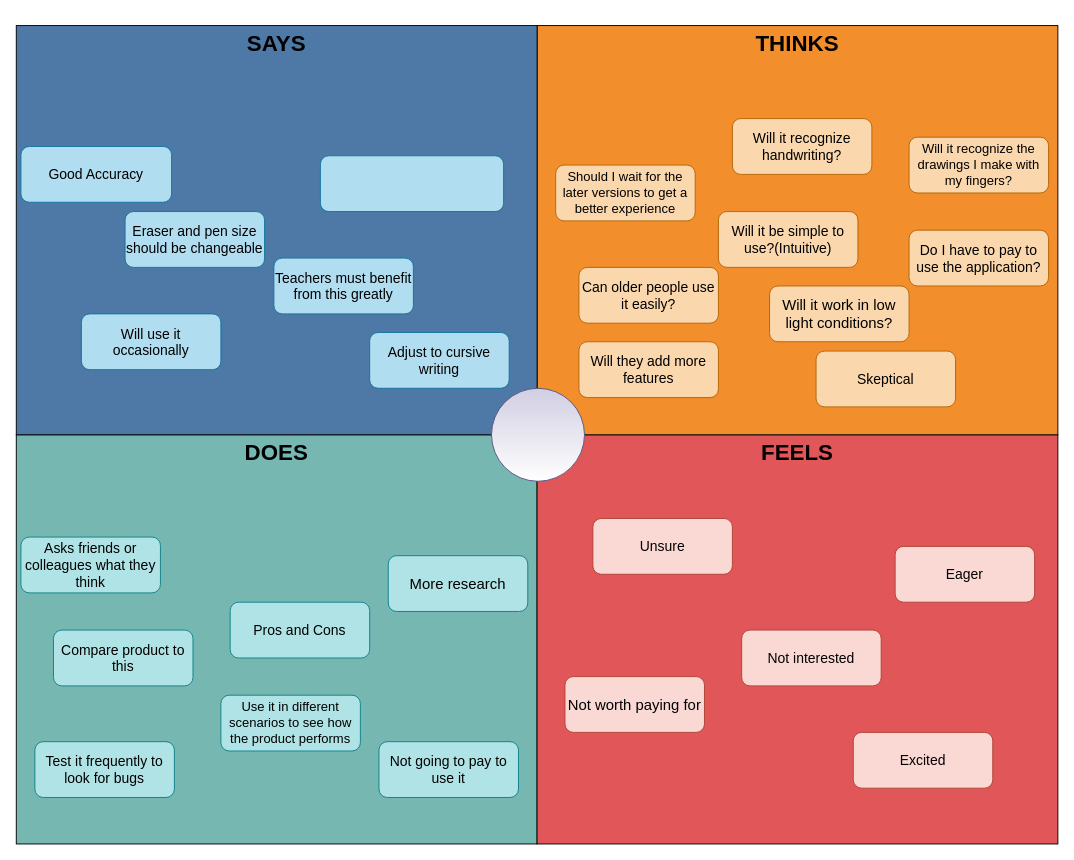
Some shapes in this 1074 by 860 pixel diagram are drawn without their labels. Each missing label, with the box of its shape:
Recognize character and convert it to computer font for better understandability: (319, 155, 504, 212)
USER: (491, 387, 585, 481)
